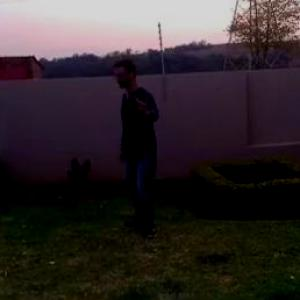takeoff-hand: (128, 86, 157, 117)
